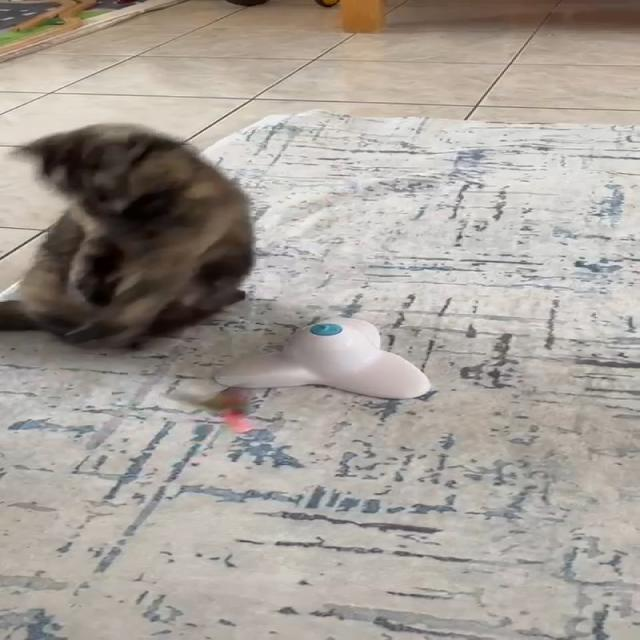authorized: (0, 122, 256, 350)
